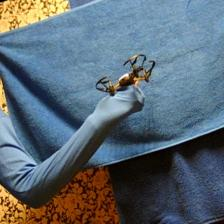drone: (96, 54, 158, 98)
